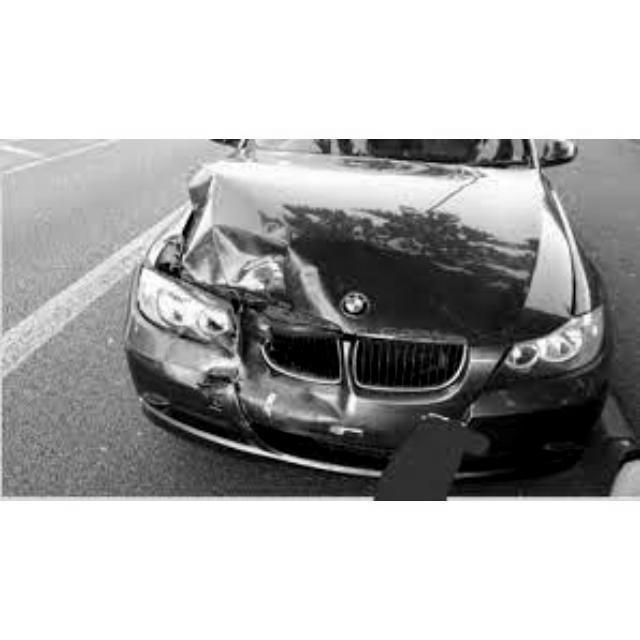bonnet-dent: (166, 170, 297, 397)
